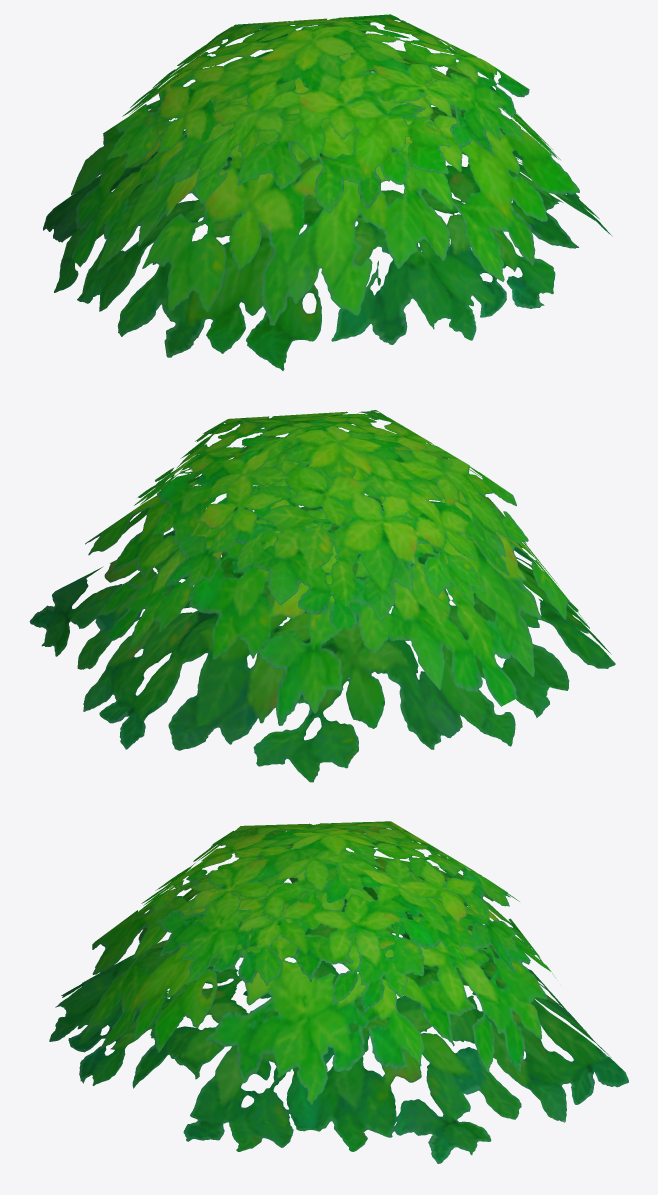
The model's file is wudaohui_guanmu.FBX.
3 views of the same model, one above another, from view 1: azimuth 30°, elevation 25°; view 2: azimuth 150°, elevation 25°; view 3: azimuth 270°, elevation 25° (orthographic). The views are drawn at different scales.
Parts seen in each view (by area): view 1: wudaohui_guanmu01; view 2: wudaohui_guanmu01; view 3: wudaohui_guanmu01.
Boxes of the visible parts, x1,y1,x2,y2 form: wudaohui_guanmu01: (43, 14, 612, 370); wudaohui_guanmu01: (29, 410, 615, 782); wudaohui_guanmu01: (49, 821, 628, 1163).
Size of the model in its own units: 156 by 66.58 by 159.
